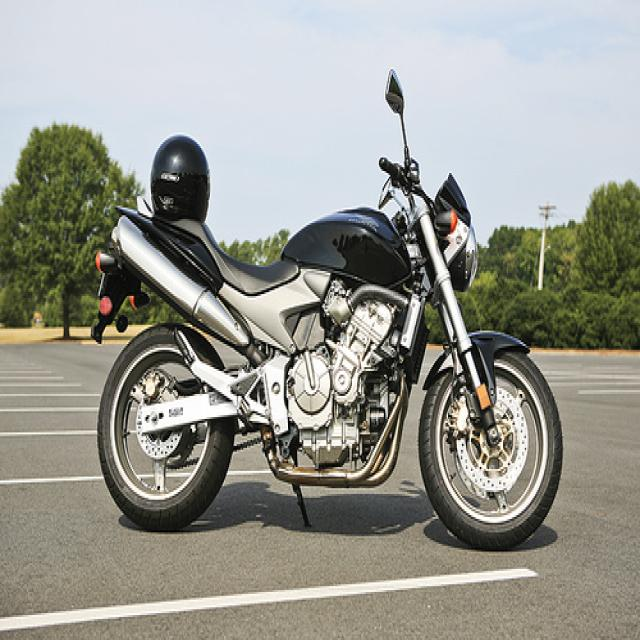motor: (90, 72, 561, 551)
